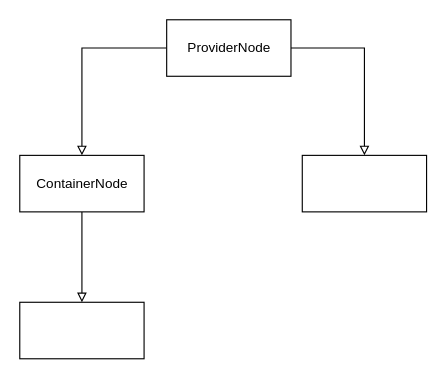
Some shapes in this 446 by 379 pixel diagram are drawn without their labels. The box of each missing label's shape, as (x1, y1, x2, y2) in pixels:
LeafNode: (301, 154, 427, 212)
RootNode: (19, 301, 144, 359)
